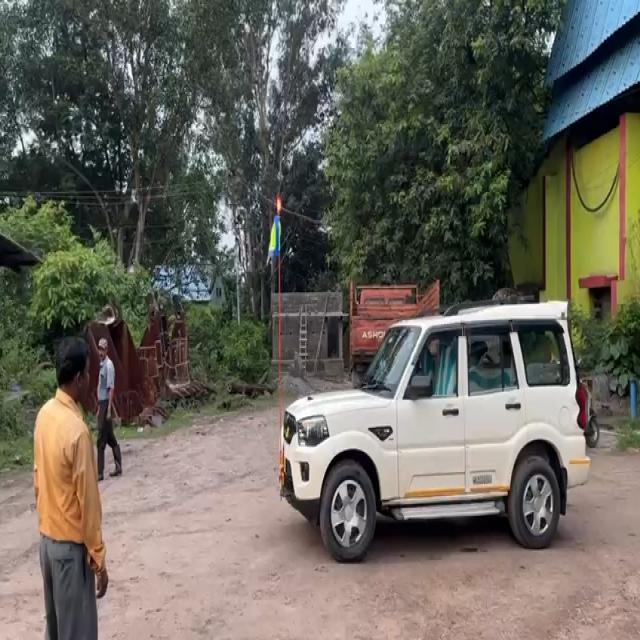light_vehicle: (280, 299, 589, 549)
